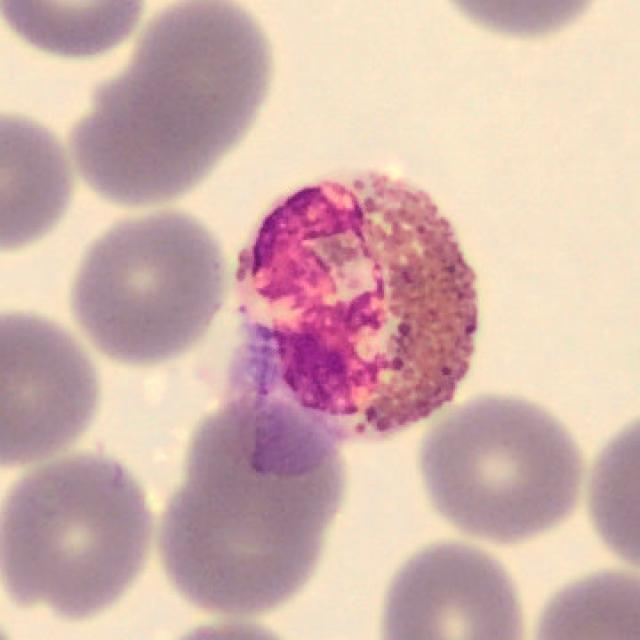Eosinofilo: (236, 172, 476, 443)
